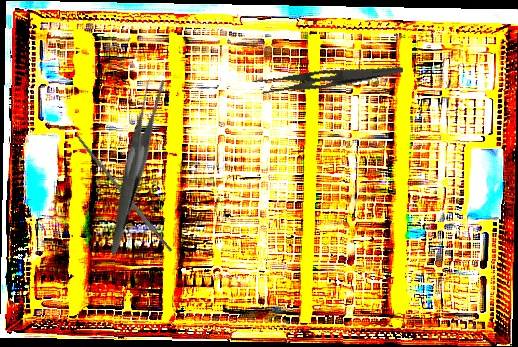Dressing Forceps: (59, 72, 208, 256), (251, 49, 404, 103)
Scalpel Handle: (75, 134, 173, 254)
